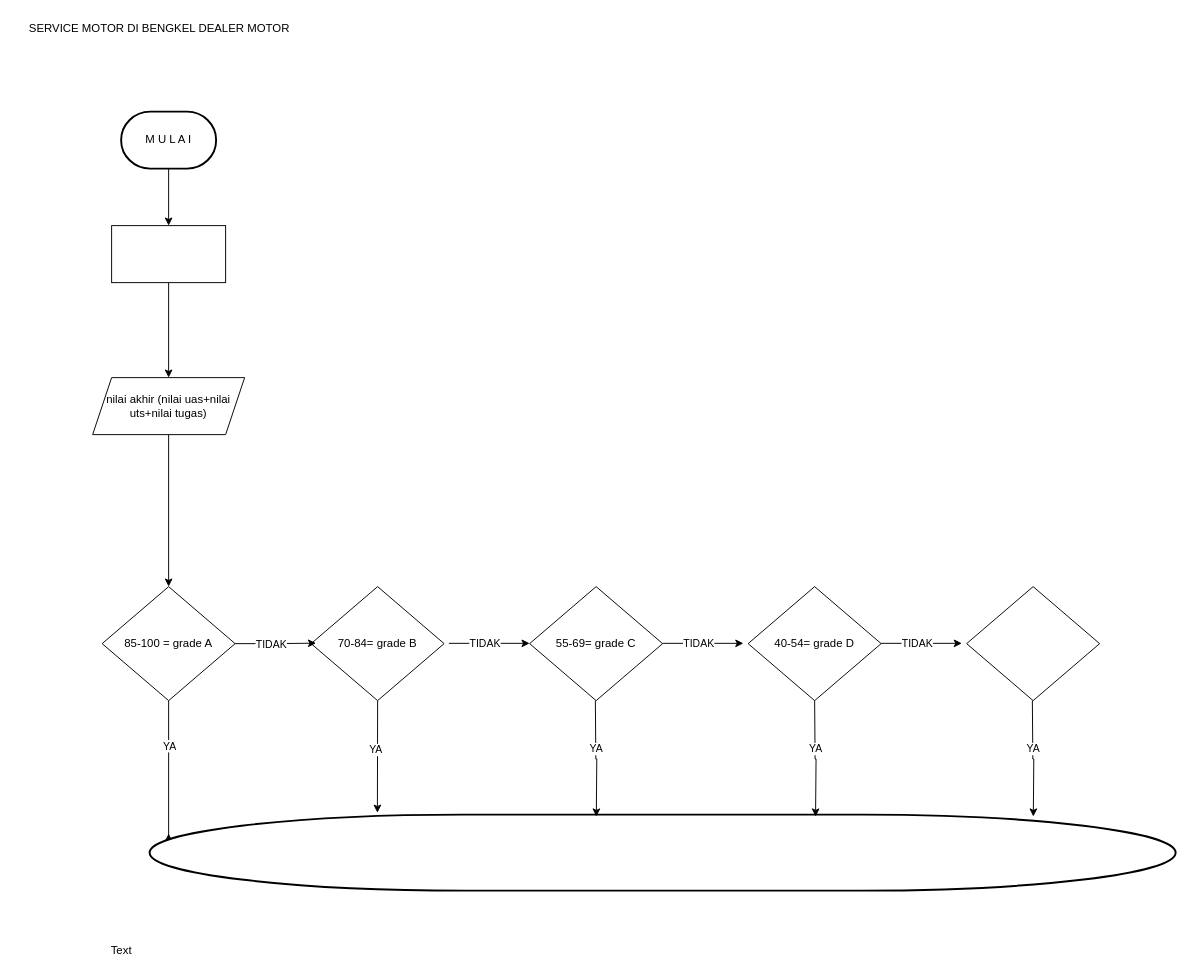
Some shapes in this 1192 by 980 pixel diagram are drawn without their labels. The centre of each missing label's shape, as x and y in pixels:
<40 = GRADE E: point (1033, 643)
nilai uts, nilai uas, nilai uts: point (168, 254)
S E L E S A I: point (662, 852)
